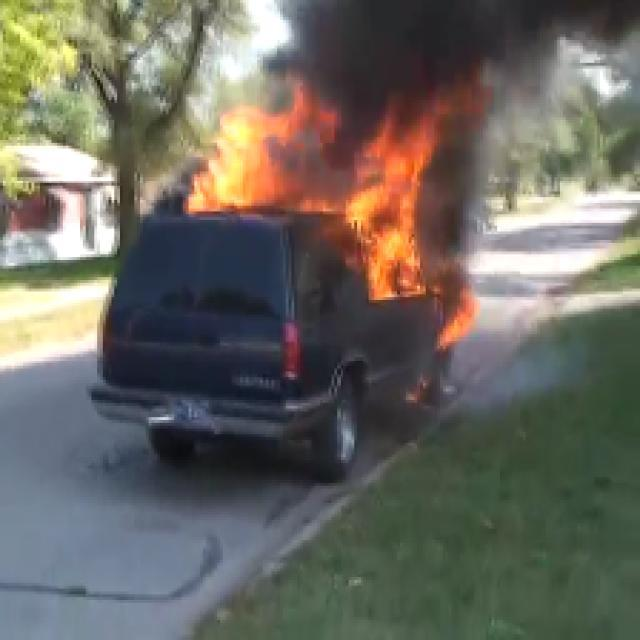Fire: (364, 144, 417, 284), (216, 135, 264, 213)
Smoke: (314, 0, 634, 120)
